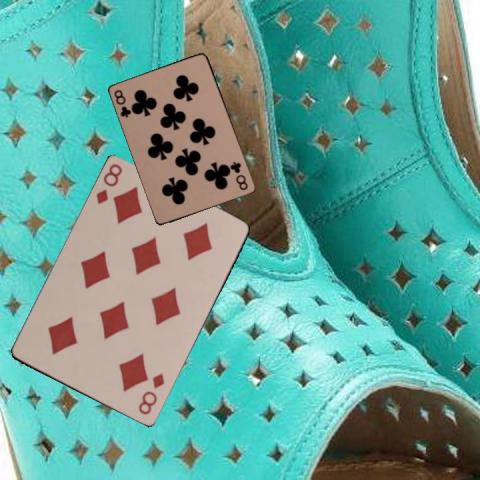8c: (111, 86, 133, 118), (228, 159, 249, 192)
8d: (135, 370, 166, 417), (93, 161, 124, 206)
